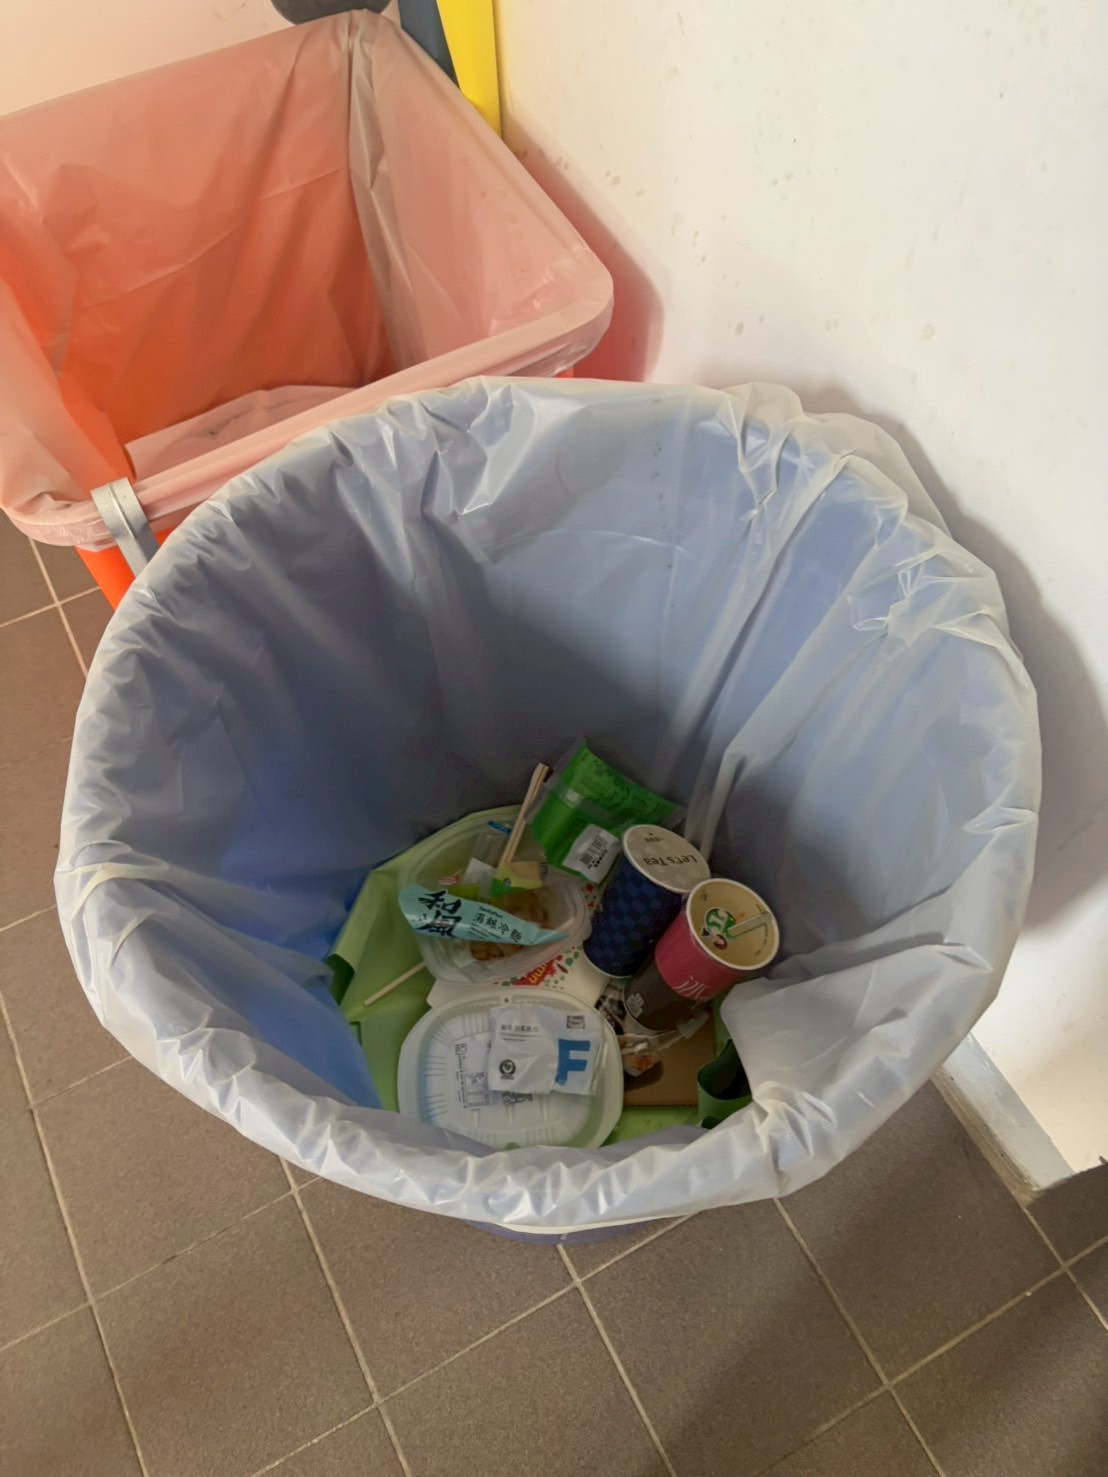normal_bin: (54, 358, 1086, 1286)
